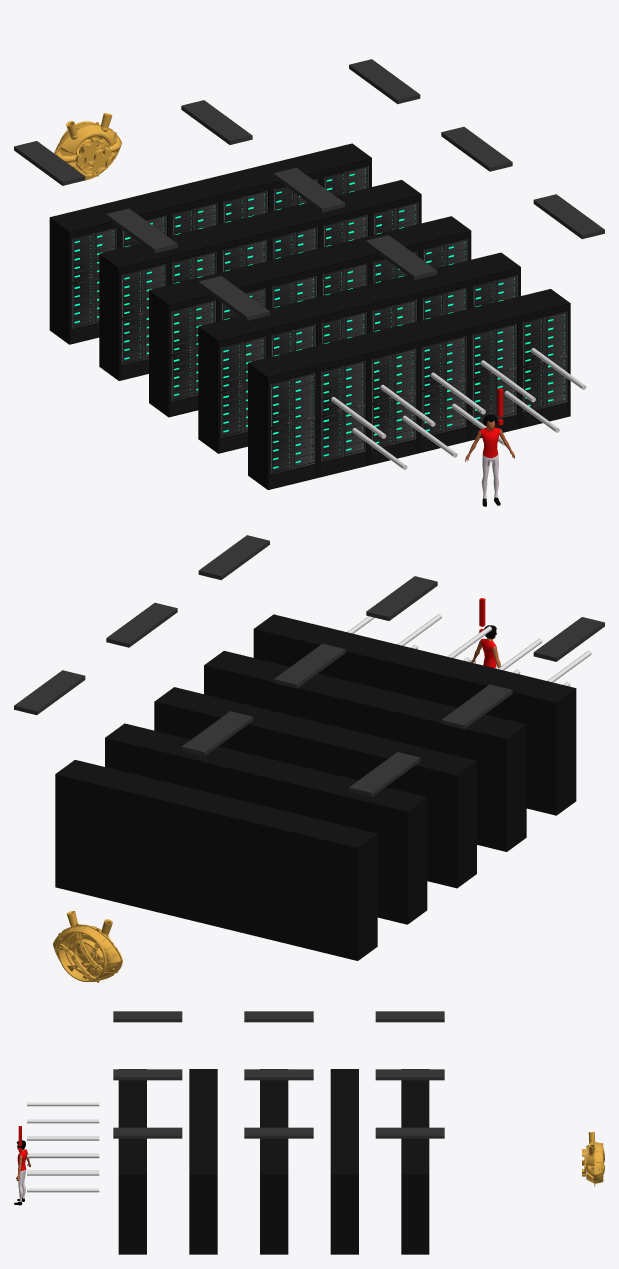
3 views of the same model, one above another, from view 1: azimuth 30°, elevation 25°; view 2: azimuth 150°, elevation 25°; view 3: azimuth 270°, elevation 25° (orthographic). The views are drawn at different scales.
Parts seen in each view (by area): view 1: Cluster, LampTeto.003, Rear Case, corpo.001, Inner Eye; view 2: Cluster, LampTeto.003, Eye of Agamotto, Rear Case; view 3: Cluster, LampTeto.003, corpo.001, Rear Case, Eye of Agamotto, Cylinder, Cylinder.001, Cylinder.003, Cylinder.005.
Boxes of the visible parts, bbox=[...] form: Cluster: bbox=[49, 143, 570, 489]; LampTeto.003: bbox=[14, 59, 604, 320]; Rear Case: bbox=[54, 113, 121, 180]; corpo.001: bbox=[465, 420, 514, 506]; Inner Eye: bbox=[74, 137, 112, 175]; Cluster: bbox=[55, 614, 576, 960]; LampTeto.003: bbox=[14, 535, 604, 796]; Eye of Agamotto: bbox=[53, 926, 120, 981]; Rear Case: bbox=[53, 911, 122, 982]; Cluster: bbox=[118, 1069, 429, 1254]; LampTeto.003: bbox=[113, 1011, 444, 1138]; corpo.001: bbox=[14, 1144, 30, 1205]; Rear Case: bbox=[586, 1132, 595, 1186]; Eye of Agamotto: bbox=[595, 1142, 603, 1183]; Cylinder: bbox=[27, 1102, 99, 1106]; Cylinder.001: bbox=[27, 1119, 99, 1123]; Cylinder.003: bbox=[27, 1154, 99, 1158]; Cylinder.005: bbox=[27, 1188, 99, 1192].
Bounding box in the file's own units: 3.76 × 1.95 × 7.57.
13 materials, 1 textured.
